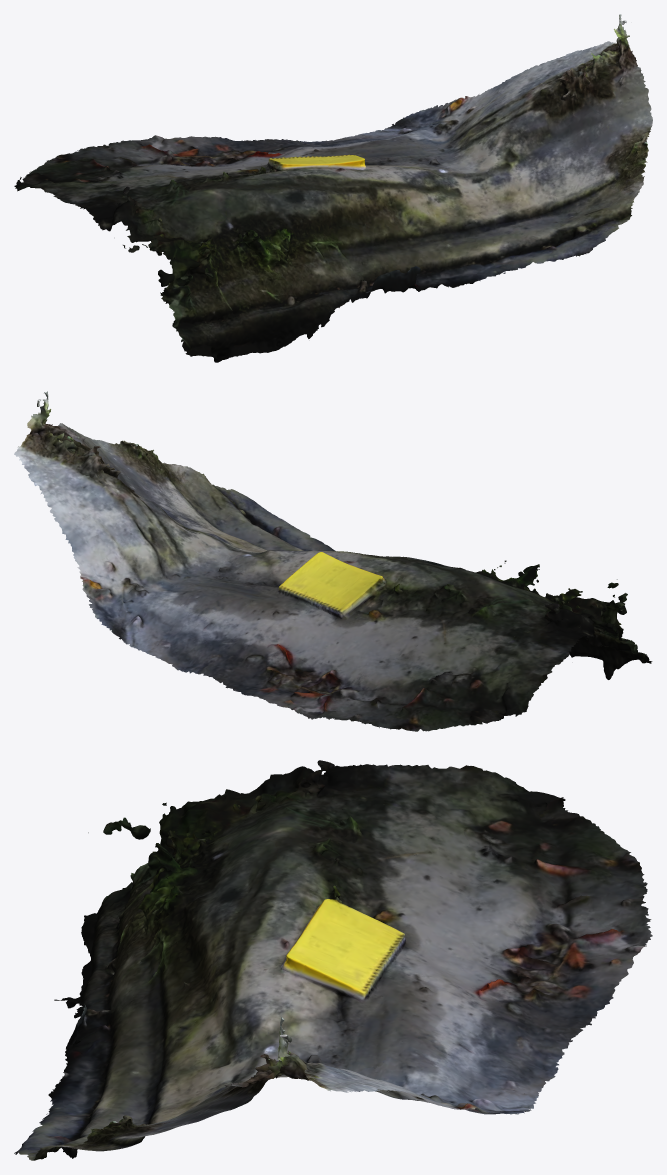
File: cranberry-2.glb
3 views of the same model, one above another, from view 1: azimuth 30°, elevation 25°; view 2: azimuth 150°, elevation 25°; view 3: azimuth 270°, elevation 25° (orthographic). The views are drawn at different scales.
Parts seen in each view (by area): view 1: Object_2; view 2: Object_2; view 3: Object_2.
Boxes of the visible parts, x1=… form: Object_2: x1=14, y1=14, x2=652, y2=362; Object_2: x1=14, y1=391, x2=652, y2=731; Object_2: x1=14, y1=760, x2=652, y2=1160.
Bounding box in the file's own units: 4.24 × 1.48 × 2.85.
Materials: 1 (1 with a texture image).
